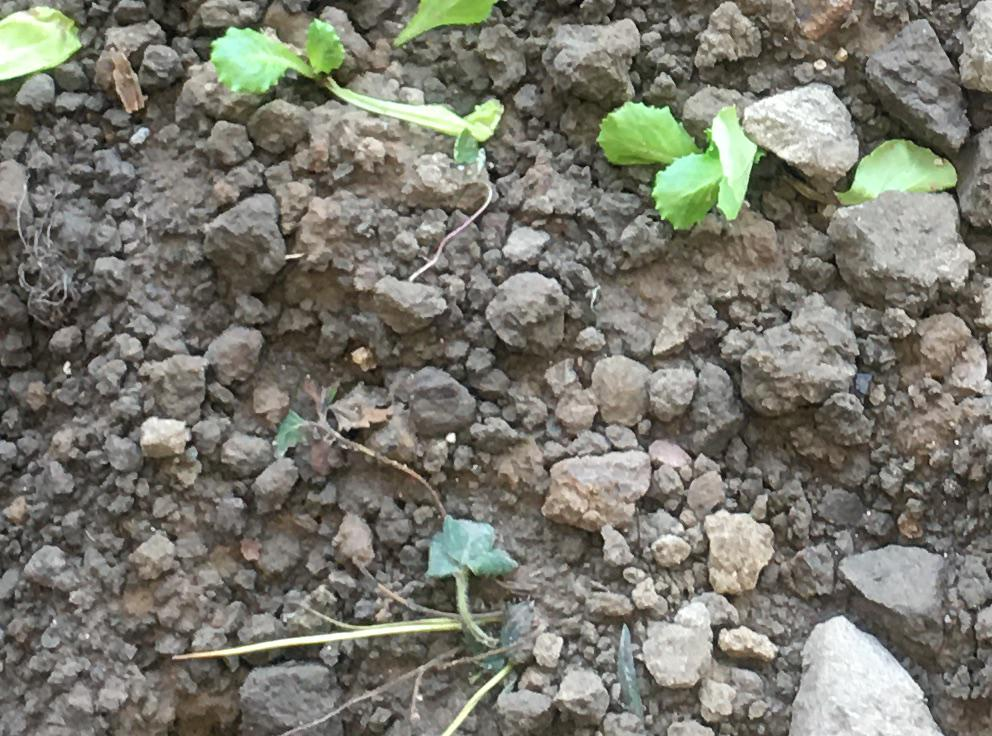block: (822, 189, 975, 315), (784, 617, 941, 736), (863, 24, 981, 156), (744, 77, 866, 199), (742, 296, 857, 419), (550, 450, 654, 532), (547, 16, 639, 105), (231, 663, 342, 736), (484, 268, 575, 356), (202, 196, 282, 287)
